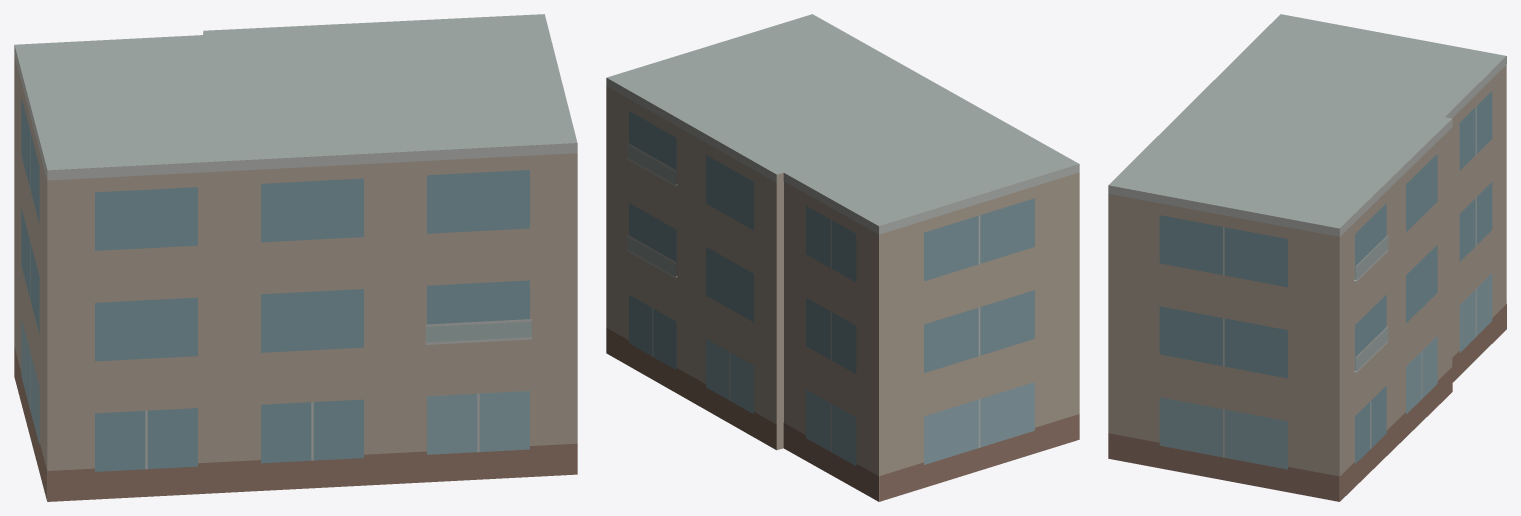
Rendered from survey-upis-32531782.glb.
3 views of the same model, side by side, from view 1: azimuth 30°, elevation 25°; view 2: azimuth 150°, elevation 25°; view 3: azimuth 270°, elevation 25° (orthographic). The views are drawn at different scales.
Visible parts, largest first — view 1: survey-upis-32531782.tmp; view 2: survey-upis-32531782.tmp; view 3: survey-upis-32531782.tmp.
Boxes of the visible parts, box(x1,y1,x2,y2) form: survey-upis-32531782.tmp: box(14, 14, 577, 501); survey-upis-32531782.tmp: box(606, 14, 1079, 501); survey-upis-32531782.tmp: box(1108, 14, 1506, 501).
Bounding box in the file's own units: 13.39 × 7.95 × 10.51.
